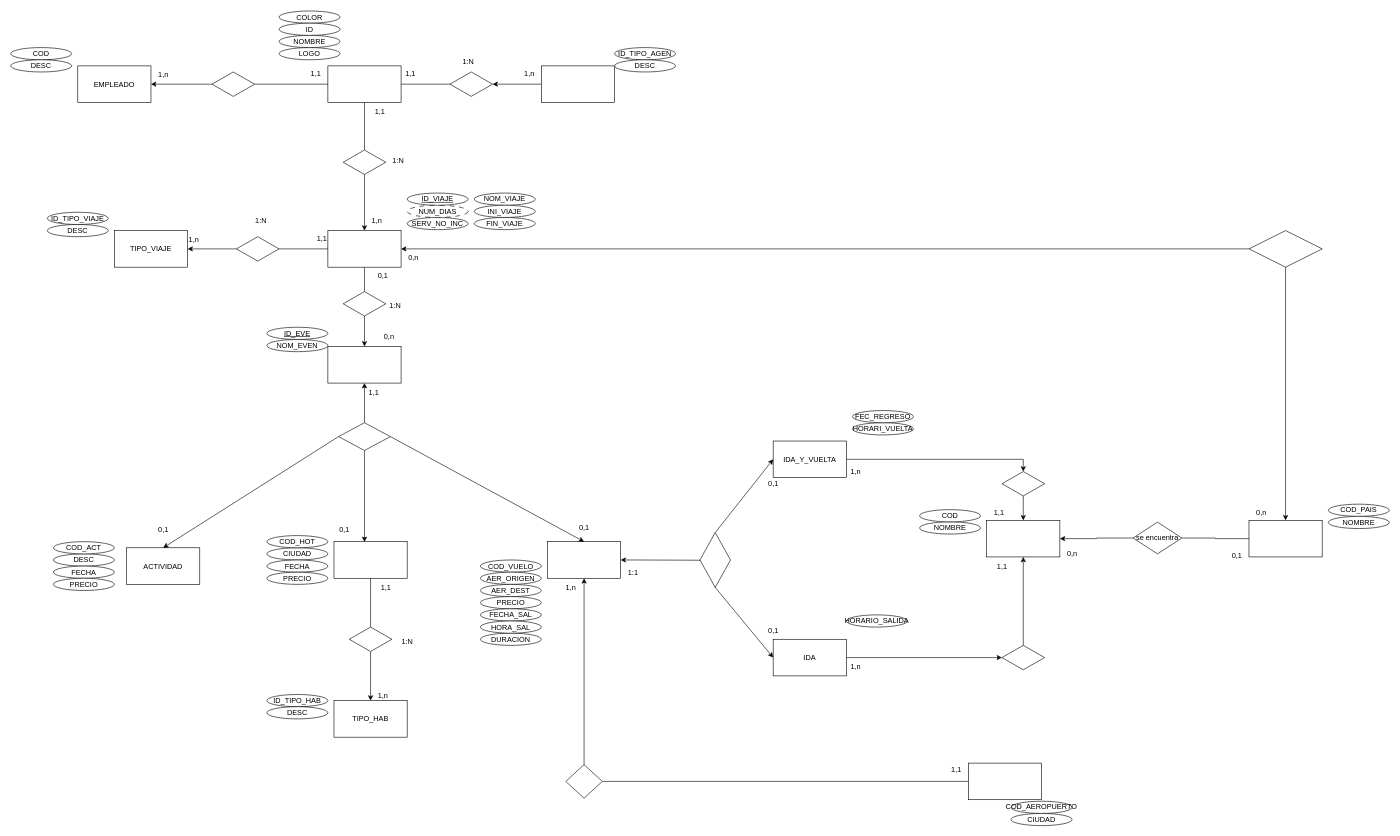
Image size: 1400x836. Some labels were removed from this diagram. Here are the shapes that lost their labels. From the top down, the centre of each, then its label:
At [364,83]: "AGENCIA".
At [578,83]: "TIPO_AGENCIA".
At [364,248]: "VIAJE".
At [364,364]: "EVENTO".
At [1023,538]: "AEROLINEA".
At [1285,538]: "PAIS".
At [370,559]: "ALOJAMIENTO".
At [584,559]: "VUELO".
At [1005,781]: "AEROPUERTO".
